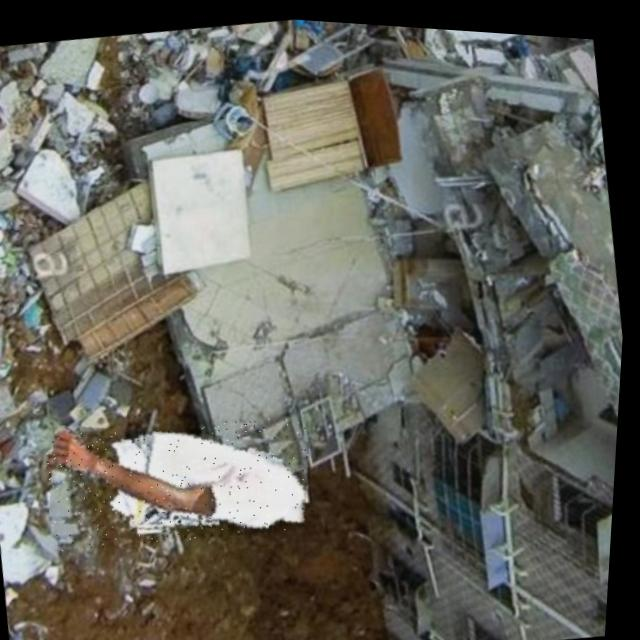Person in Rubble: (43, 395, 326, 564)
